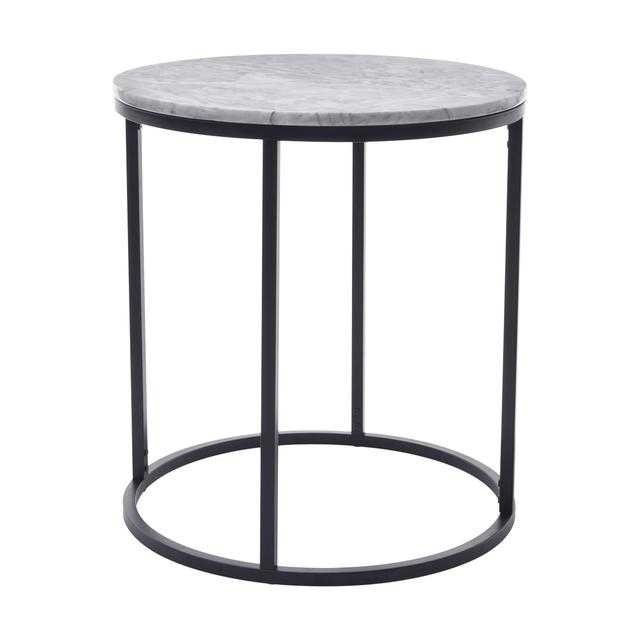obstacle: (114, 54, 524, 584)
